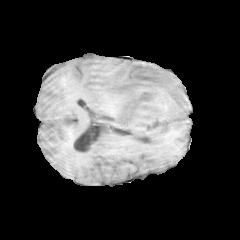glioma: (88, 67, 188, 142)
